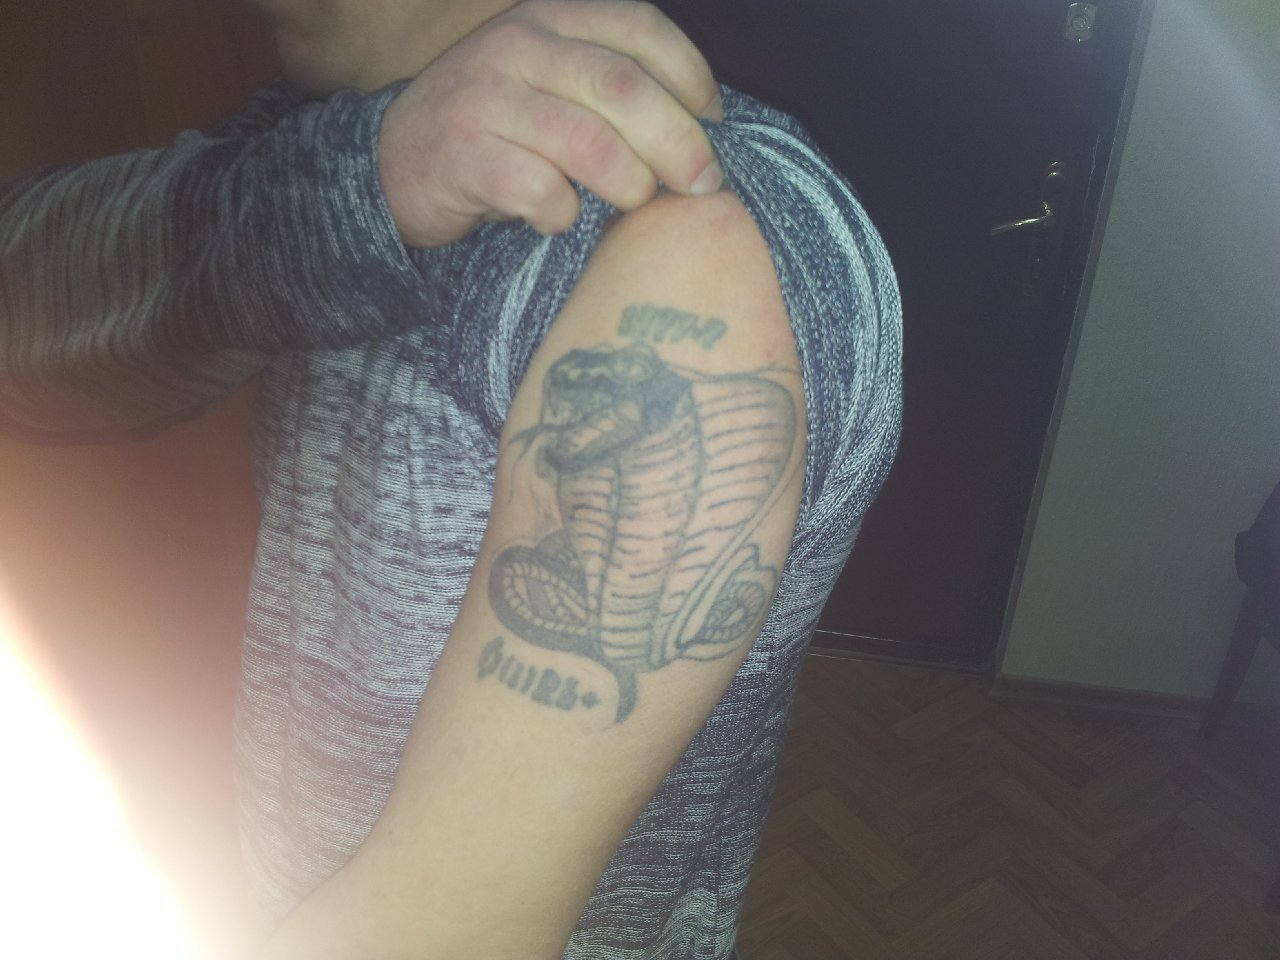tatu7_zmeya: (519, 321, 800, 737)
